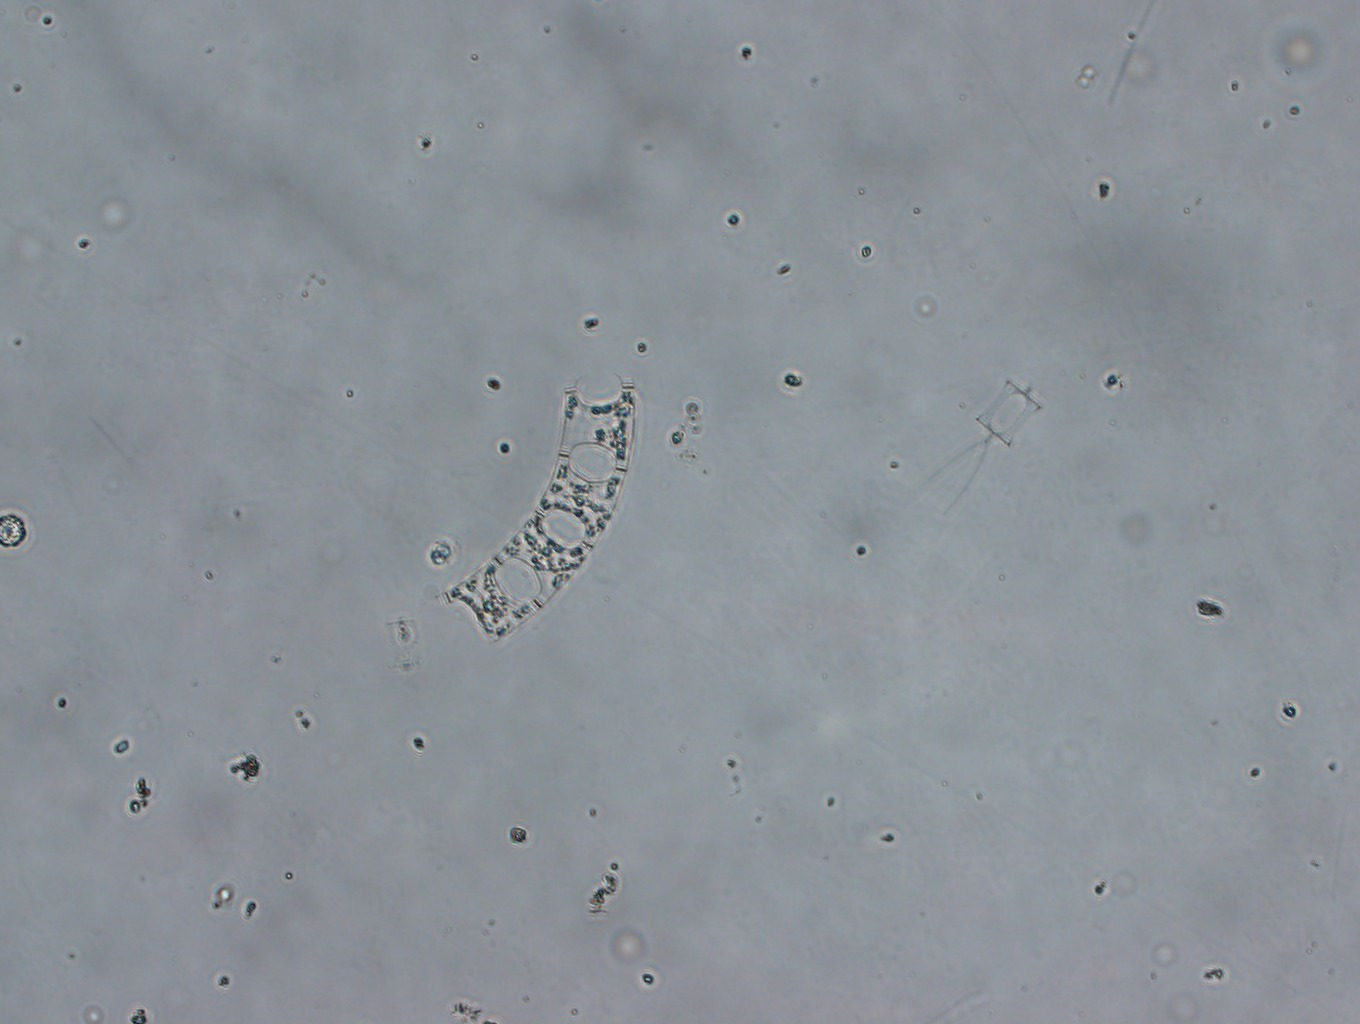chaetoceros: (918, 374, 1044, 522)
eucampia: (441, 366, 638, 650)
